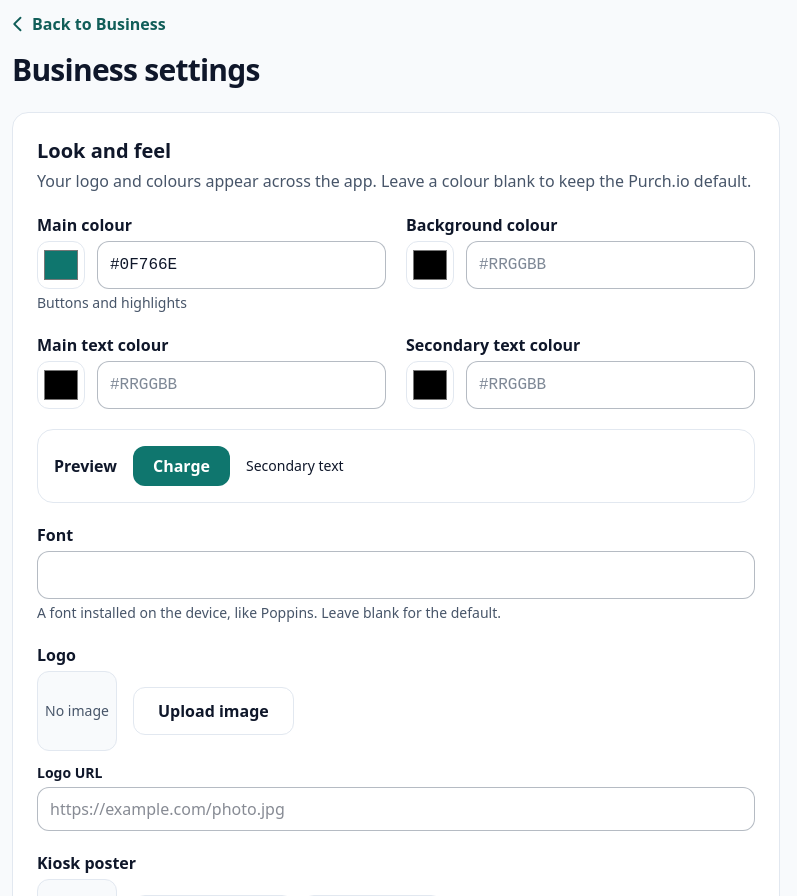
SettingsPage › refuses a colour the API would refuse and sends nothing
In the field labelled "Background colour": (610, 265) [466,241,755,289], type "red"
(page scrolled)
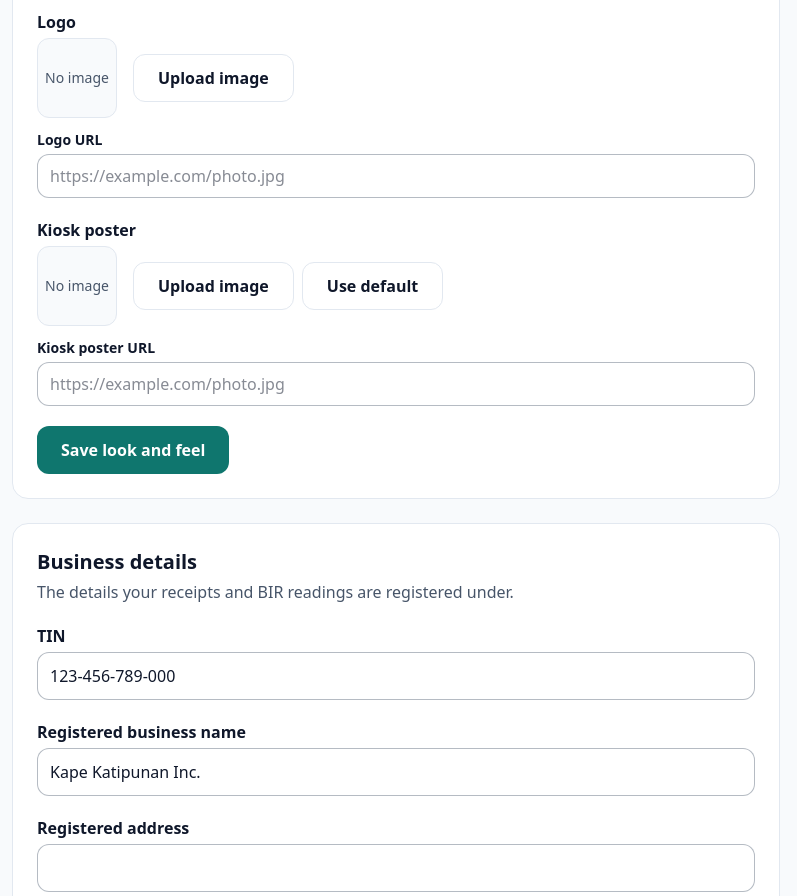
Click the button "Save look and feel": (133, 450) [37,426,229,474]
(page scrolled)
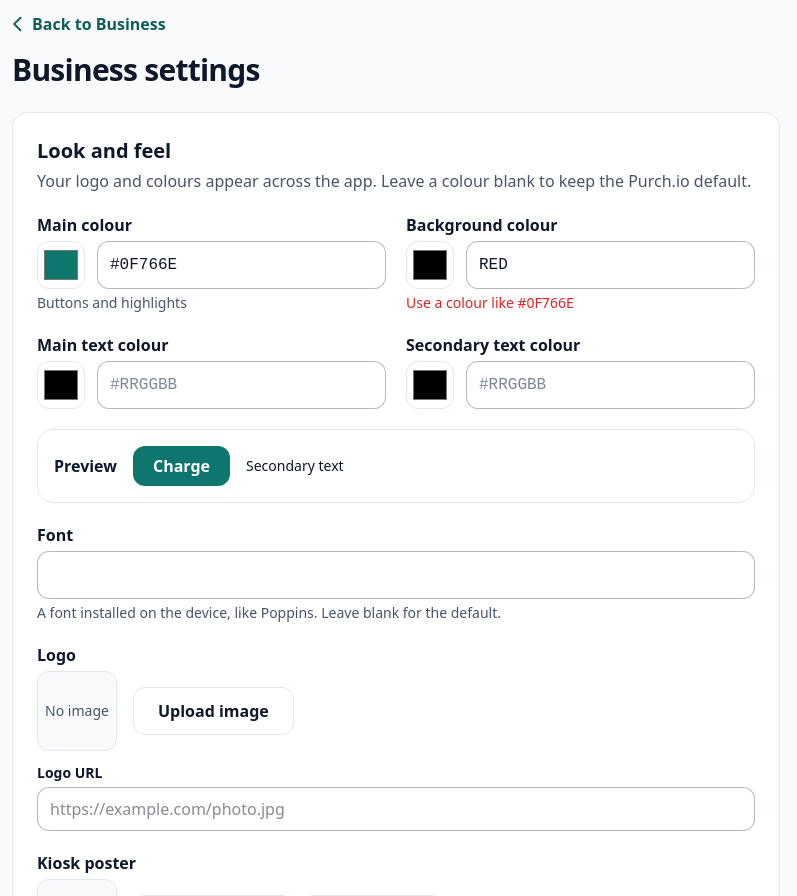
Check: the text "Use a colour like #0F766E" is shown, box [406,293,574,312]
